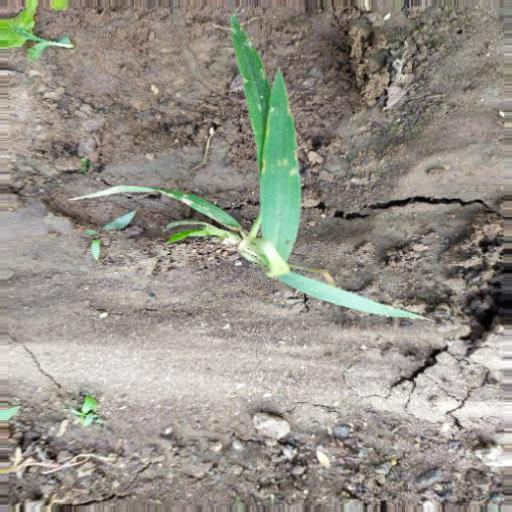weed: (66, 23, 440, 336)
